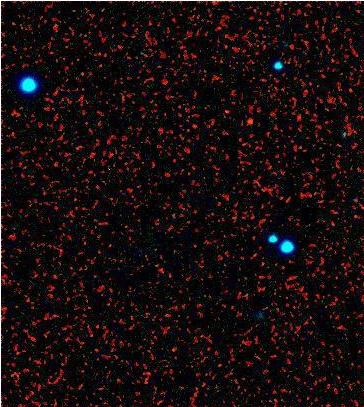star: (235, 101, 265, 131)
